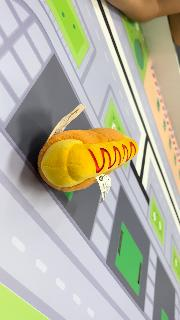hotdog: (38, 128, 138, 190)
